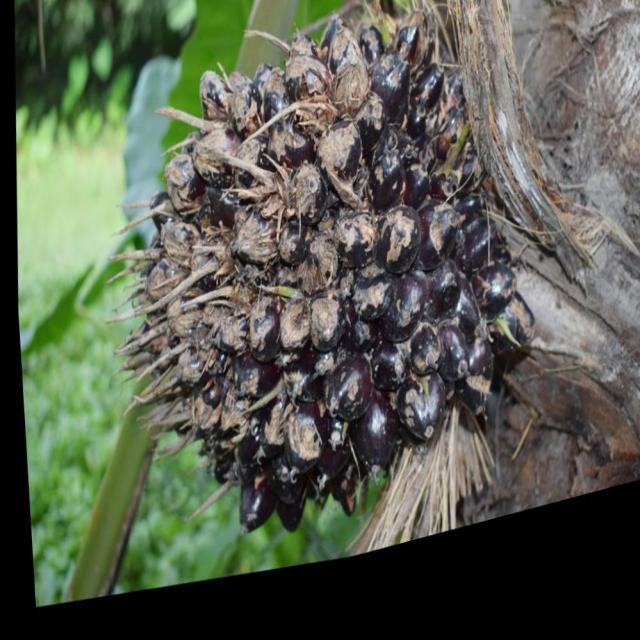Unripe: (114, 0, 550, 602)
